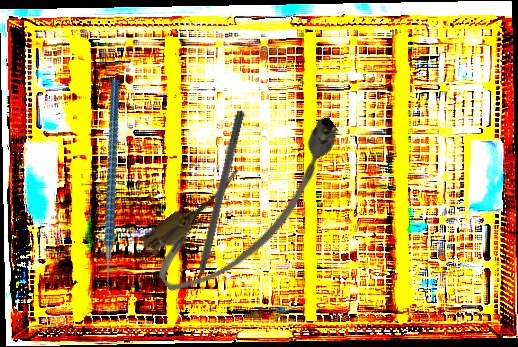Cannula: (133, 103, 368, 308)
Chopper: (37, 77, 195, 308)
Pusher: (185, 108, 246, 311)
